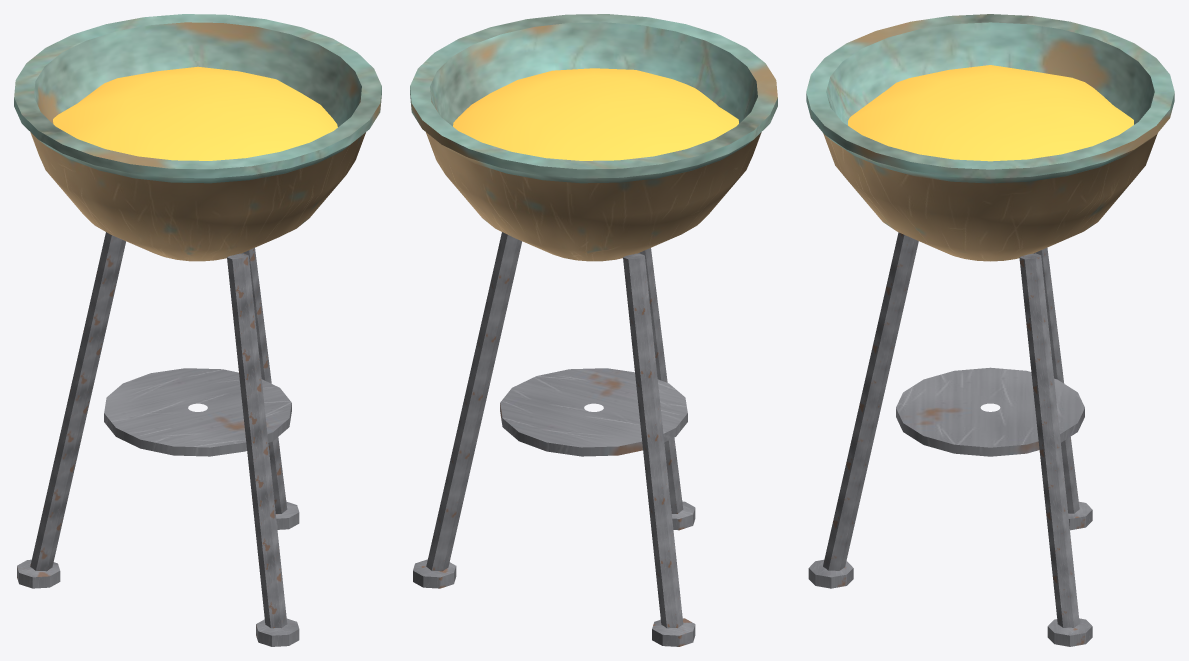
The model's file is brazier.glb.
The picture shows the model from 3 angles, left to right: view 1: azimuth 30°, elevation 25°; view 2: azimuth 150°, elevation 25°; view 3: azimuth 270°, elevation 25°; orthographic projection.
Visible parts, largest first — view 1: OUT; view 2: OUT; view 3: OUT.
Part boxes in pixels (left/top/right/bottom): OUT: left=14, top=14, right=381, bottom=646; OUT: left=410, top=14, right=777, bottom=646; OUT: left=806, top=14, right=1174, bottom=646.
Size of the model in its own units: 0.74 by 1.08 by 0.74.
Materials: 4 (3 with a texture image).
